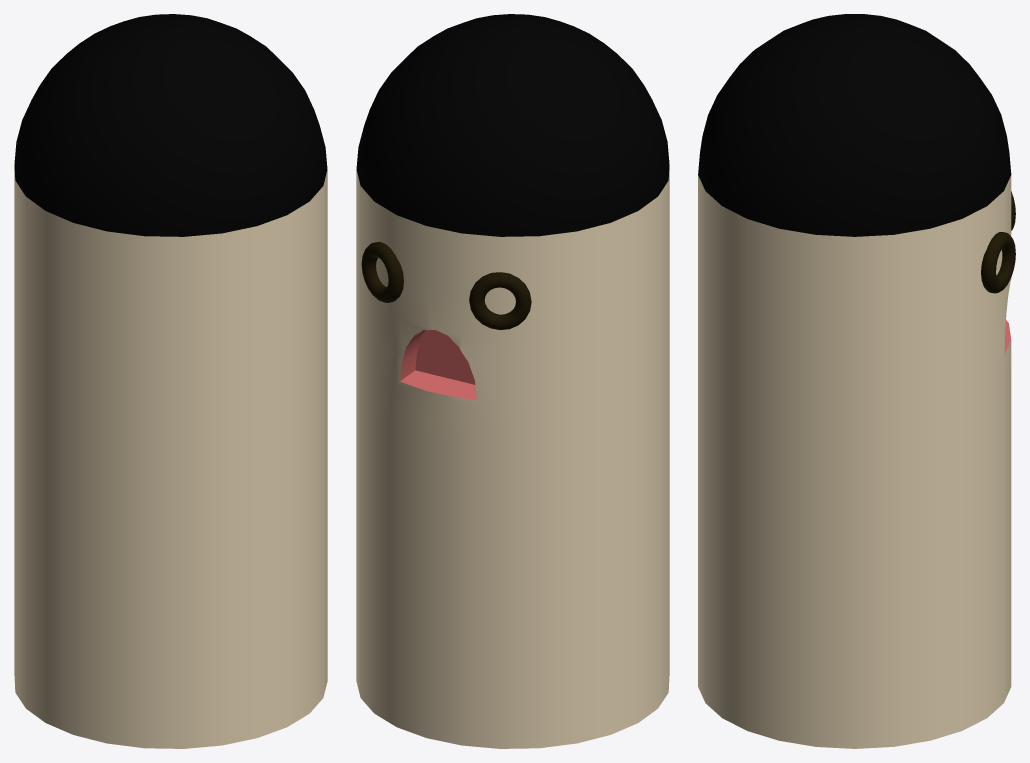
File: Player Model.fbx
3 renders of one model, left to right at view 1: azimuth 30°, elevation 25°; view 2: azimuth 150°, elevation 25°; view 3: azimuth 270°, elevation 25°, orthographic.
Visible parts, largest first — view 1: pCylinder5; view 2: pCylinder5; view 3: pCylinder5.
Boxes of the visible parts, <box> form: pCylinder5: <box>14,14,327,748</box>; pCylinder5: <box>356,14,669,748</box>; pCylinder5: <box>698,14,1015,748</box>.
Bounding box in the file's own units: 0.9961 × 2.3 × 1.01.
